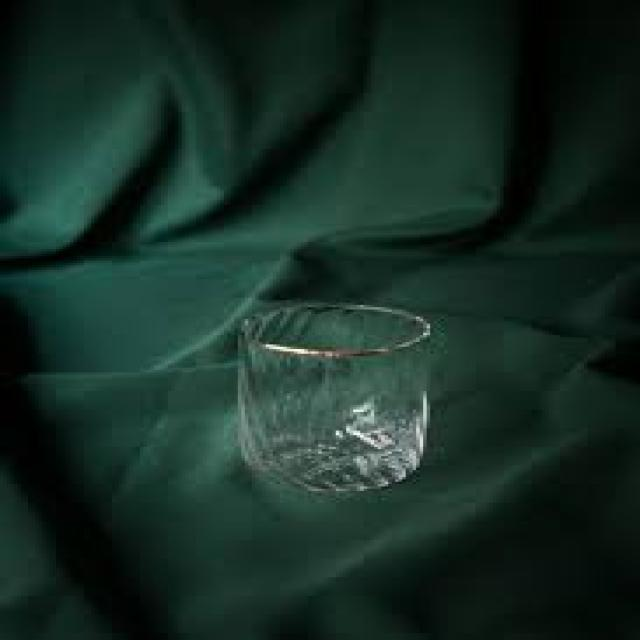Dry Waste: (235, 304, 439, 492)
